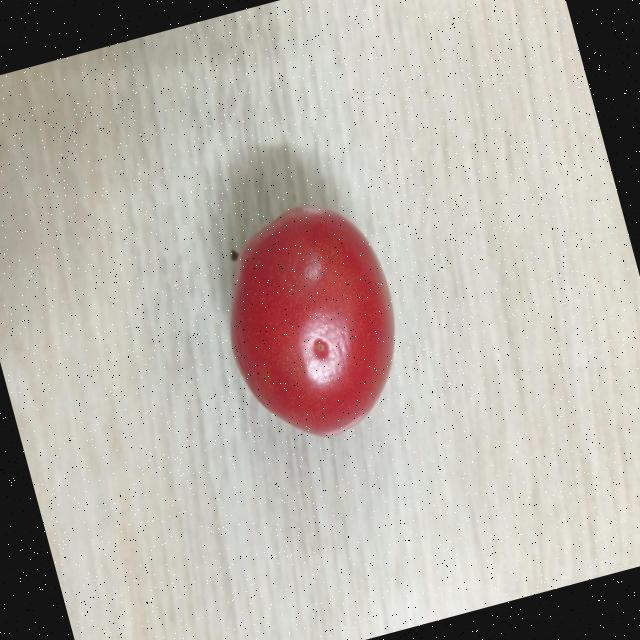Tomato: (199, 185, 426, 460)
